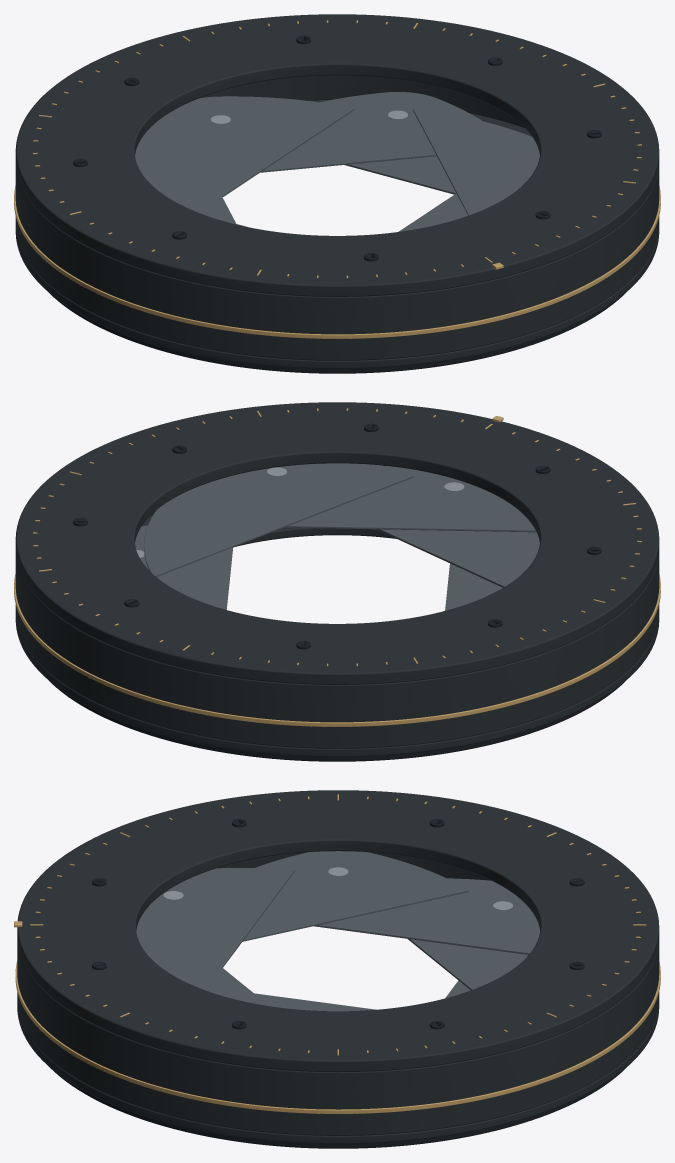
The model's file is iris.glb.
3 views of the same model, one above another, from view 1: azimuth 30°, elevation 25°; view 2: azimuth 150°, elevation 25°; view 3: azimuth 270°, elevation 25° (orthographic).
Visible parts, largest first — view 1: Cover_front_bezel, Housing_outer_barrel, Blade_02, Blade_01, Blade_07, Housing_lower_flange, Blade_03, Brass_perimeter_band, Foot_rear_rim, Blade_00, Blade_06; view 2: Cover_front_bezel, Housing_outer_barrel, Blade_07, Blade_06, Housing_lower_flange, Blade_05, Brass_perimeter_band, Blade_00, Foot_rear_rim, Blade_04; view 3: Cover_front_bezel, Housing_outer_barrel, Blade_04, Blade_03, Blade_05, Housing_lower_flange, Blade_06, Brass_perimeter_band, Blade_02, Foot_rear_rim, Blade_07.
Boxes of the visible parts, box(x1,y1,x2,y2) form: Cover_front_bezel: box(15, 14, 659, 296); Housing_outer_barrel: box(15, 75, 659, 360); Blade_02: box(145, 96, 354, 197); Blade_01: box(260, 92, 482, 172); Blade_07: box(413, 108, 539, 215); Housing_lower_flange: box(15, 100, 659, 368); Blade_03: box(135, 126, 236, 223); Brass_perimeter_band: box(14, 186, 660, 338); Foot_rear_rim: box(49, 293, 625, 373); Blade_00: box(345, 156, 456, 194); Blade_06: box(398, 193, 467, 231); Cover_front_bezel: box(15, 402, 659, 684); Housing_outer_barrel: box(15, 465, 659, 748); Blade_07: box(144, 463, 413, 576); Blade_06: box(284, 466, 536, 532); Housing_lower_flange: box(15, 515, 659, 756); Blade_05: box(377, 529, 539, 587); Brass_perimeter_band: box(14, 574, 660, 726); Blade_00: box(135, 525, 233, 609); Foot_rear_rim: box(49, 681, 625, 761); Blade_04: box(445, 563, 502, 610); Cover_front_bezel: box(17, 790, 659, 1072); Housing_outer_barrel: box(17, 852, 659, 1135); Blade_04: box(242, 851, 468, 941); Blade_03: box(314, 878, 540, 954); Blade_05: box(148, 867, 294, 967); Housing_lower_flange: box(17, 1001, 659, 1143); Blade_06: box(136, 907, 253, 993); Brass_perimeter_band: box(15, 961, 660, 1113); Blade_02: box(408, 939, 528, 990); Foot_rear_rim: box(49, 1067, 625, 1148); Blade_07: box(193, 985, 375, 1011).
Bounding box in the file's own units: 7.34 × 1.18 × 7.36.
